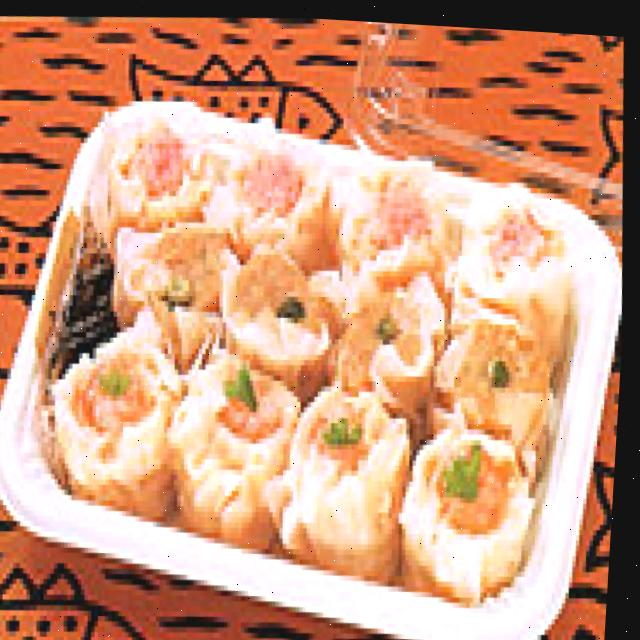带馅早点: (30, 146, 588, 540)
